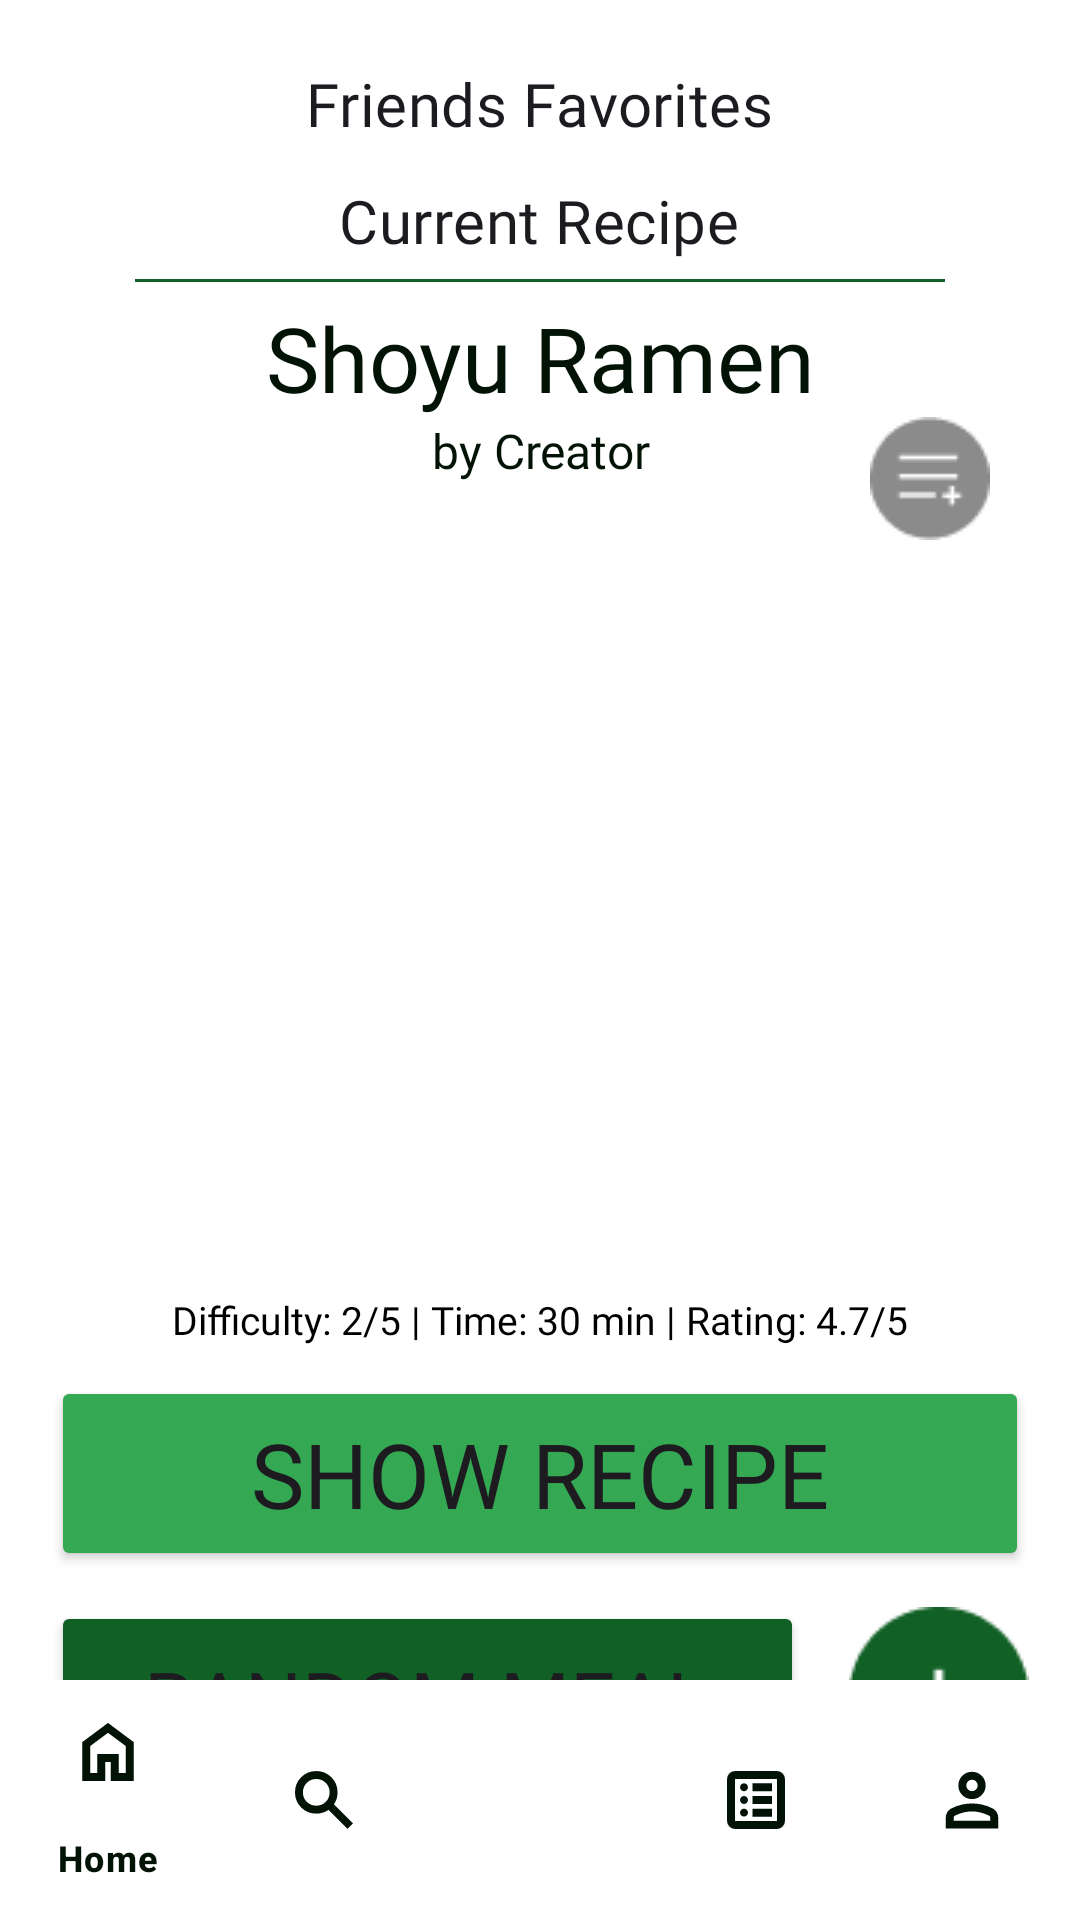

Icons on this 1080 x 1920 Android screen, each with its box as [x1, y1, x2, y2]:
Add the currently displayed recipe to your favourites: [870, 417, 990, 540]
